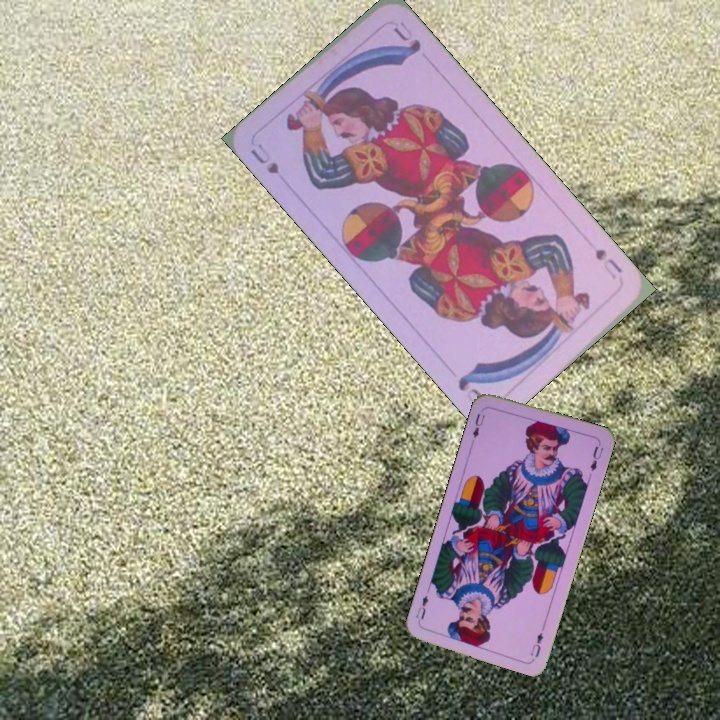EU: (468, 409, 487, 445), (526, 628, 546, 660)
SU: (246, 140, 282, 177), (590, 244, 625, 282)
